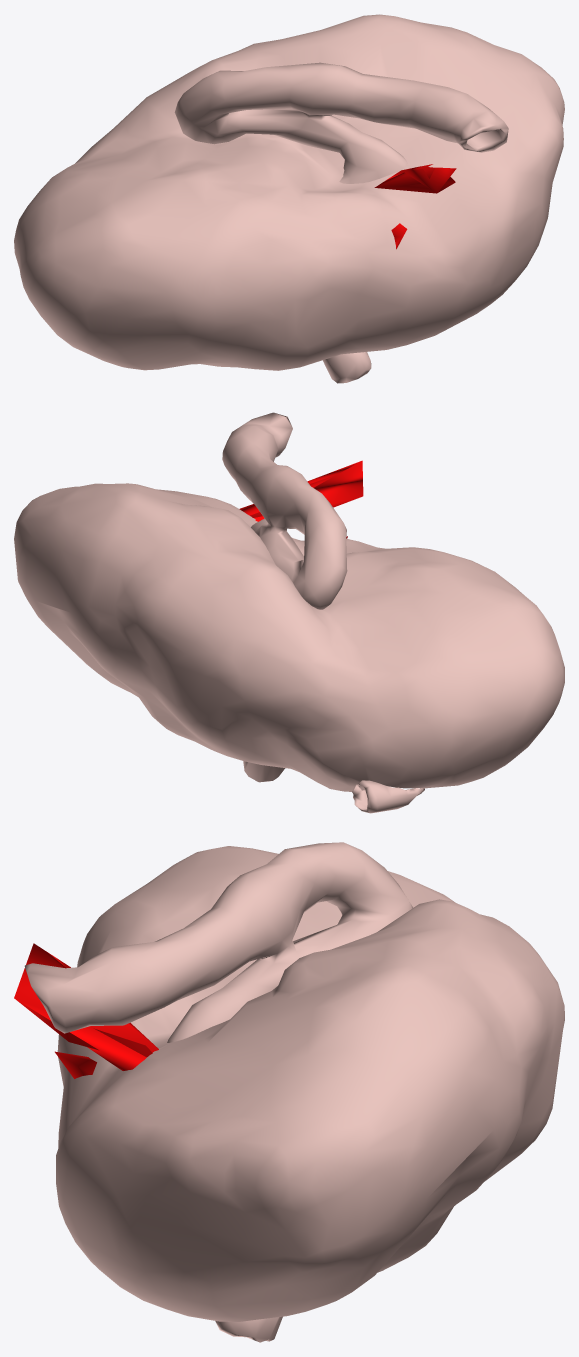
The model's file is NIH_F_Lymph_Node.glb.
3 renders of one model, top to bottom at view 1: azimuth 30°, elevation 25°; view 2: azimuth 150°, elevation 25°; view 3: azimuth 270°, elevation 25°, orthographic. The views are drawn at different scales.
Visible parts, largest first — view 1: Yao_capsule_of_lymph_node, Yao_efferent_lymph_node, Yao_blood_vasculature, Yao_afferent_lymphatic_vessel; view 2: Yao_capsule_of_lymph_node, Yao_efferent_lymph_node, Yao_afferent_lymphatic_vessel, Yao_blood_vasculature; view 3: Yao_capsule_of_lymph_node, Yao_efferent_lymph_node, Yao_blood_vasculature, Yao_afferent_lymphatic_vessel.
Part boxes in pixels (bbox=[...]): Yao_capsule_of_lymph_node: bbox=[14, 14, 564, 370]; Yao_efferent_lymph_node: bbox=[174, 62, 508, 183]; Yao_blood_vasculature: bbox=[374, 164, 456, 249]; Yao_afferent_lymphatic_vessel: bbox=[323, 352, 371, 383]; Yao_capsule_of_lymph_node: bbox=[14, 483, 564, 791]; Yao_efferent_lymph_node: bbox=[222, 412, 347, 609]; Yao_afferent_lymphatic_vessel: bbox=[243, 761, 424, 813]; Yao_blood_vasculature: bbox=[239, 460, 363, 538]; Yao_capsule_of_lymph_node: bbox=[56, 846, 564, 1321]; Yao_efferent_lymph_node: bbox=[24, 842, 413, 1042]; Yao_blood_vasculature: bbox=[14, 943, 158, 1078]; Yao_afferent_lymphatic_vessel: bbox=[215, 1316, 282, 1342].
Bounding box in the file's own units: 0.0196 × 0.0113 × 0.0125.
